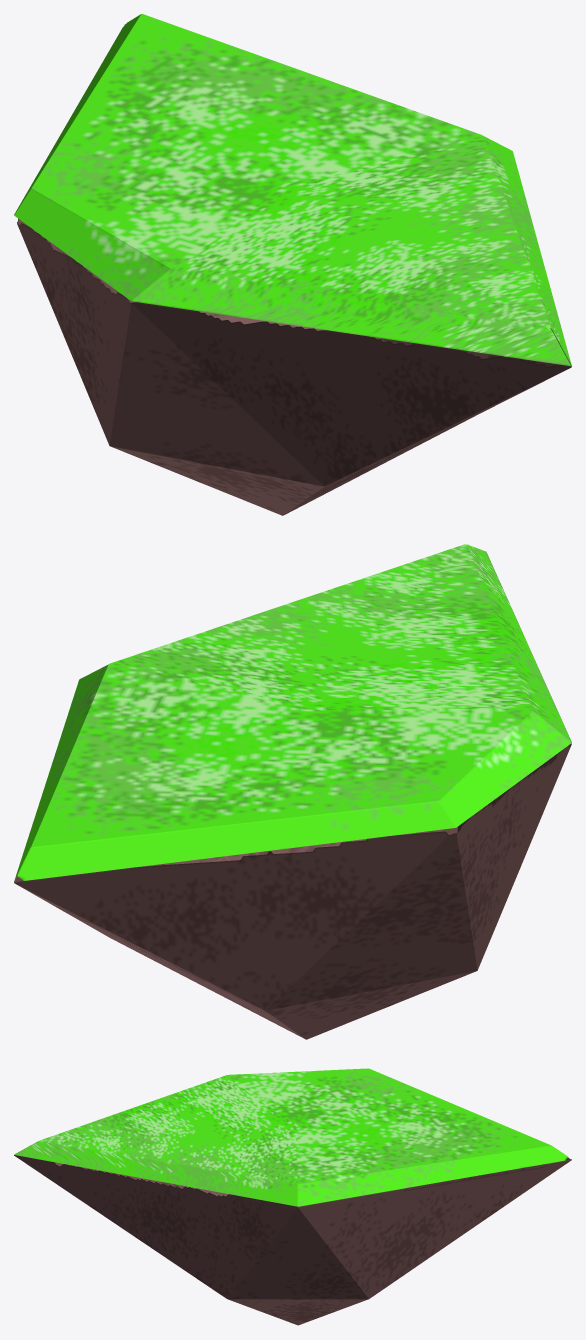
File: LandscapeOnefbx.fbx
3 renders of one model, top to bottom at view 1: azimuth 30°, elevation 25°; view 2: azimuth 150°, elevation 25°; view 3: azimuth 270°, elevation 25°, orthographic. The views are drawn at different scales.
Parts seen in each view (by area): view 1: Icosphere; view 2: Icosphere; view 3: Icosphere.
Part boxes in pixels (left/top/right/bottom): Icosphere: left=14, top=14, right=571, bottom=515; Icosphere: left=14, top=544, right=571, bottom=1039; Icosphere: left=14, top=1068, right=571, bottom=1325.
Size of the model in its own units: 154 by 111 by 280.
